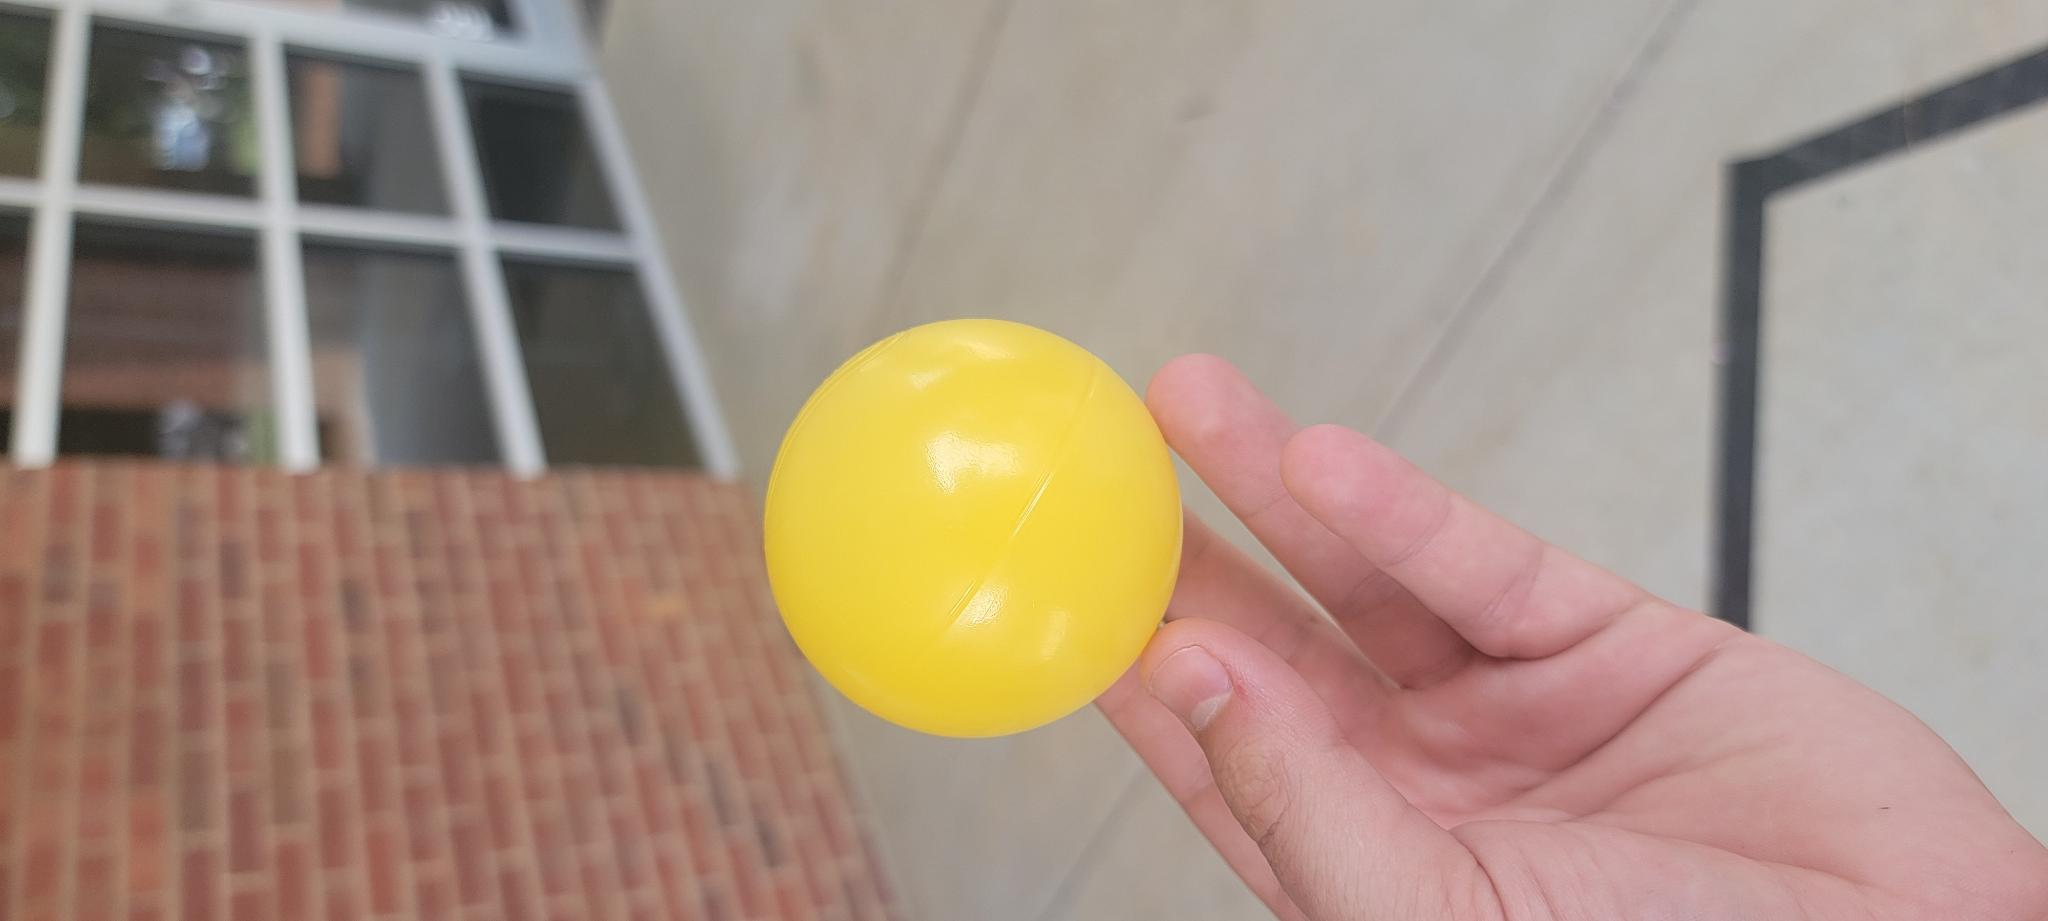Yellow-Ball: (180, 756, 609, 921)
